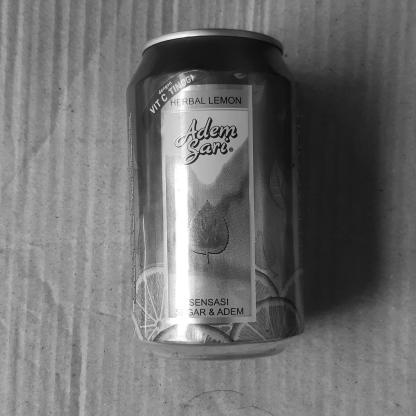alumunium_can: (78, 0, 336, 380)
